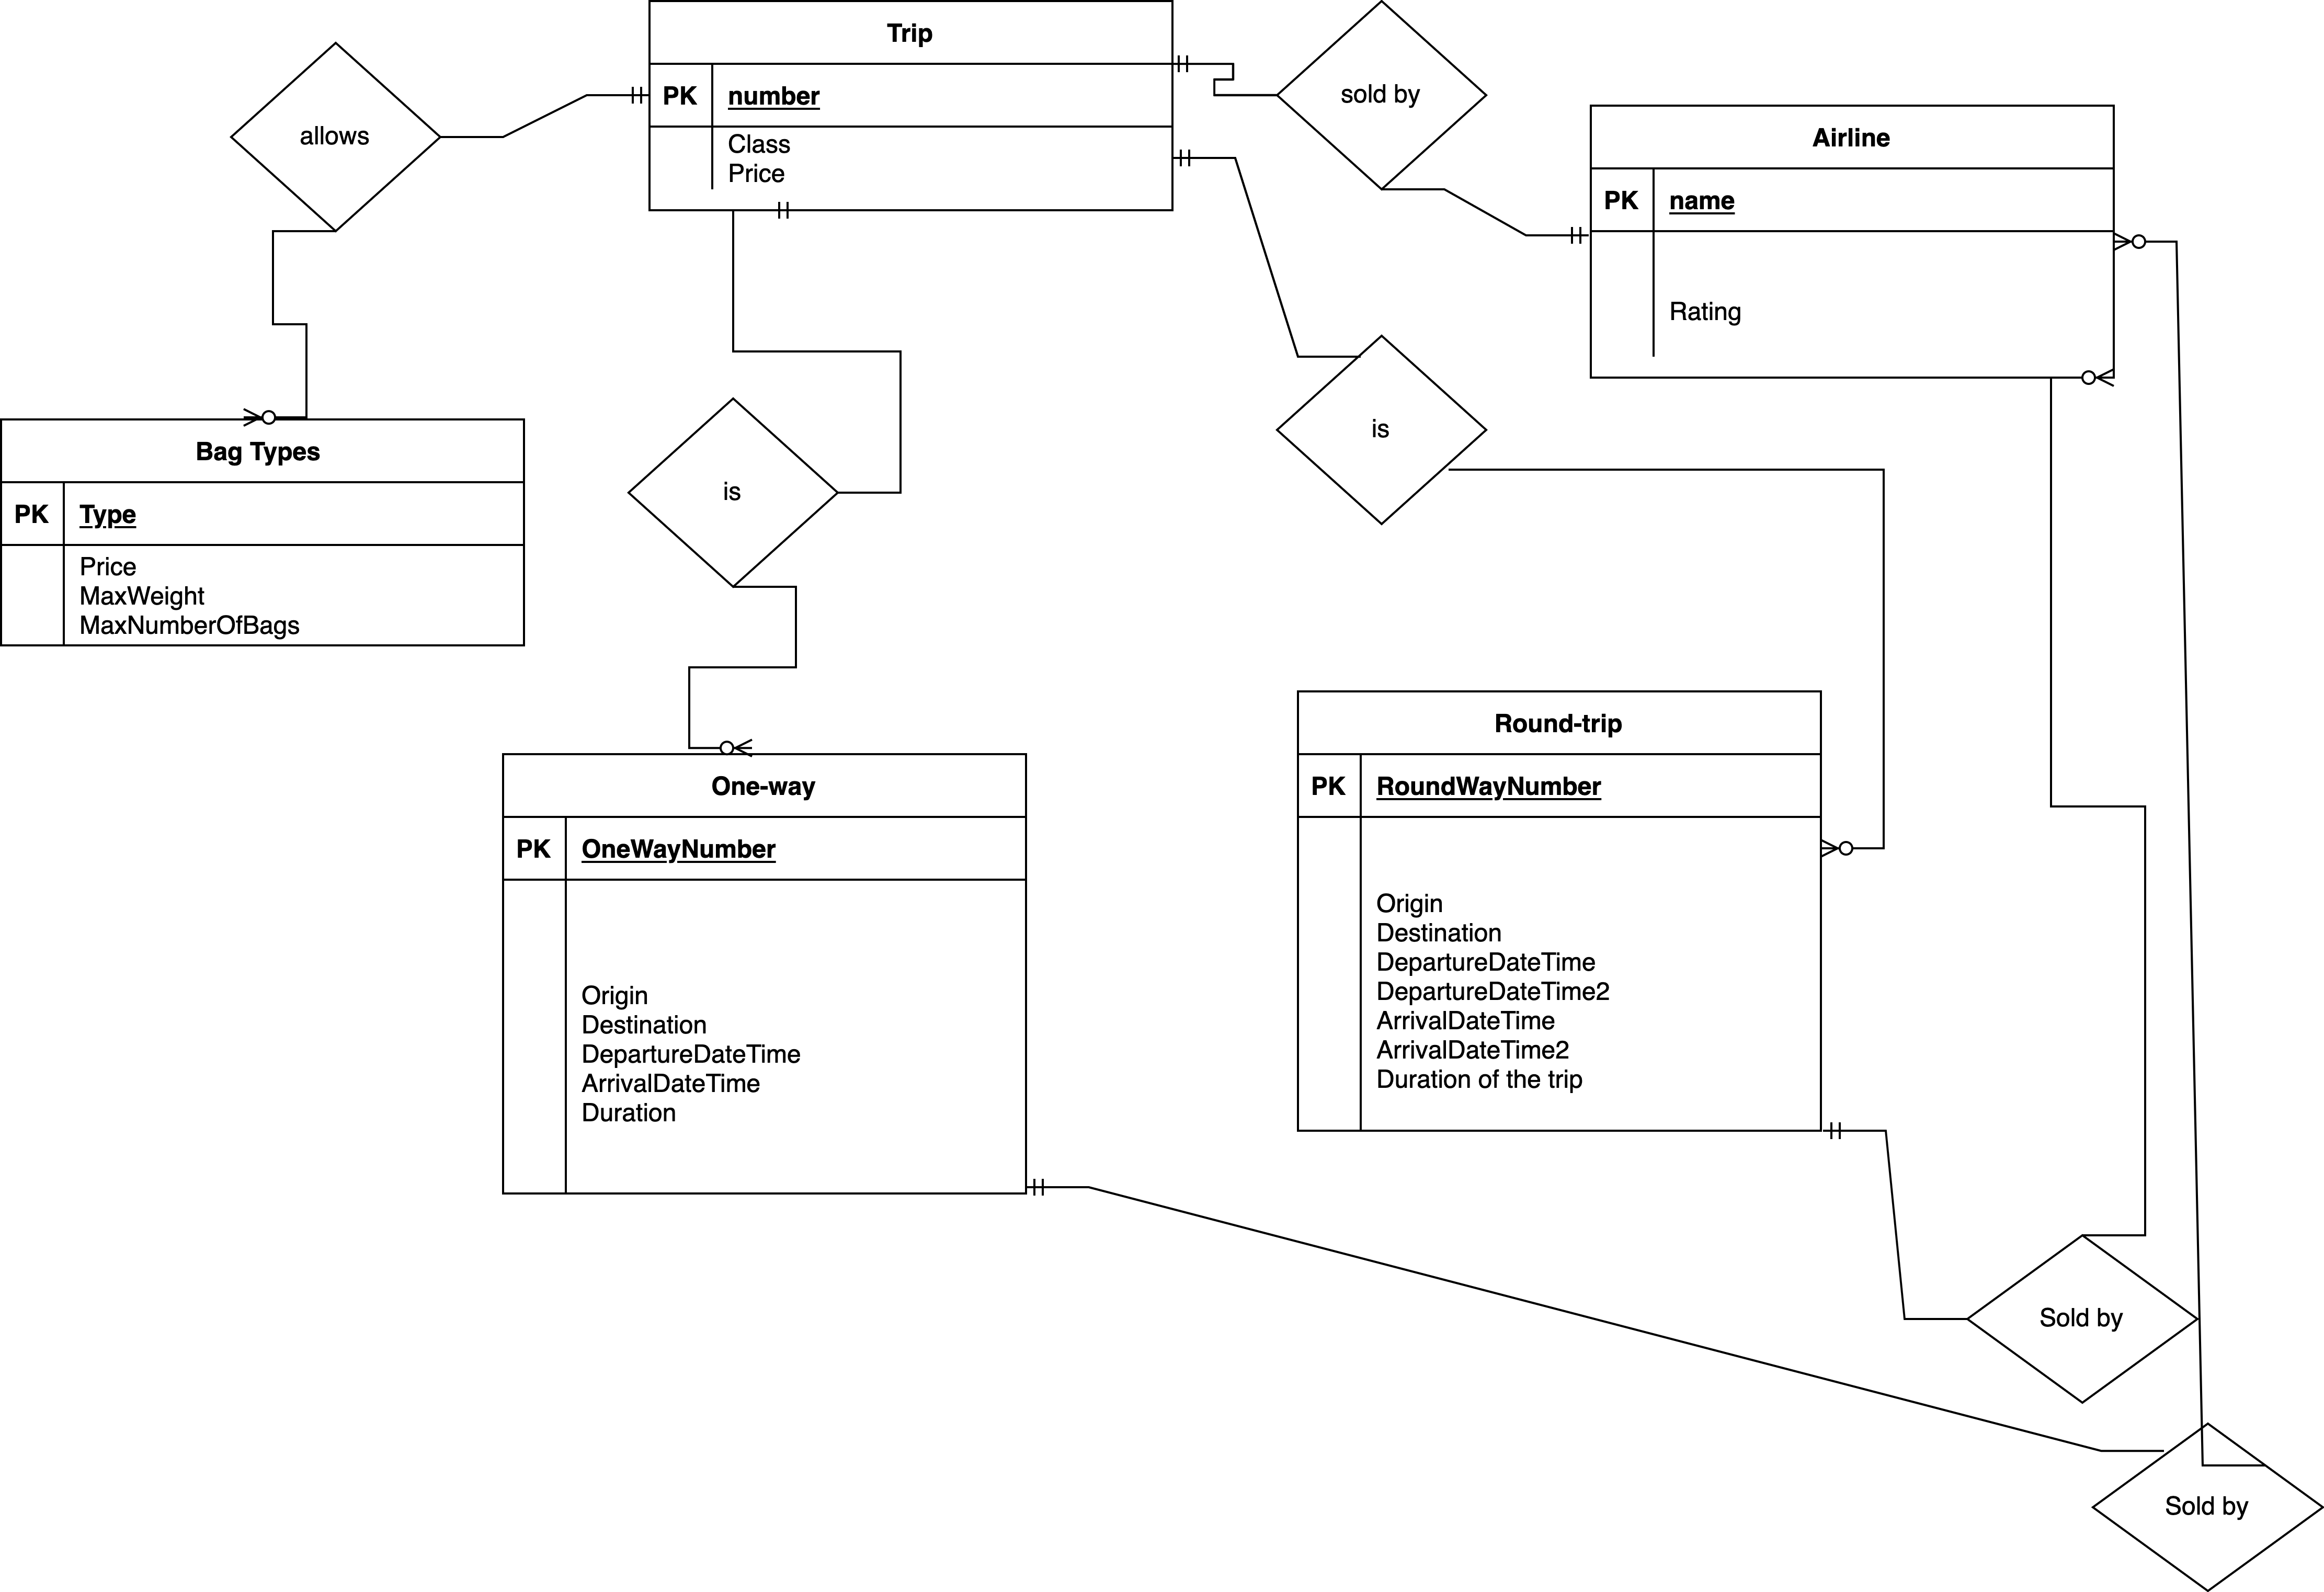entity: (1296, 691, 1822, 1133), (502, 753, 1028, 1193), (1588, 102, 2116, 380), (4, 419, 526, 652), (646, 4, 1176, 210)
many: (689, 733, 754, 762), (240, 405, 309, 431), (2052, 366, 2116, 394), (1821, 839, 1883, 868), (2116, 233, 2174, 254)
one: (752, 201, 835, 223), (1821, 1120, 1886, 1143), (1024, 1179, 1095, 1200), (1526, 224, 1595, 244), (588, 87, 648, 106), (1174, 150, 1238, 168), (1171, 55, 1229, 71)
rel: (625, 394, 835, 588), (1279, 332, 1489, 525), (1279, 2, 1490, 189), (2094, 1422, 2324, 1592), (1966, 1235, 2199, 1401), (235, 42, 440, 226)
